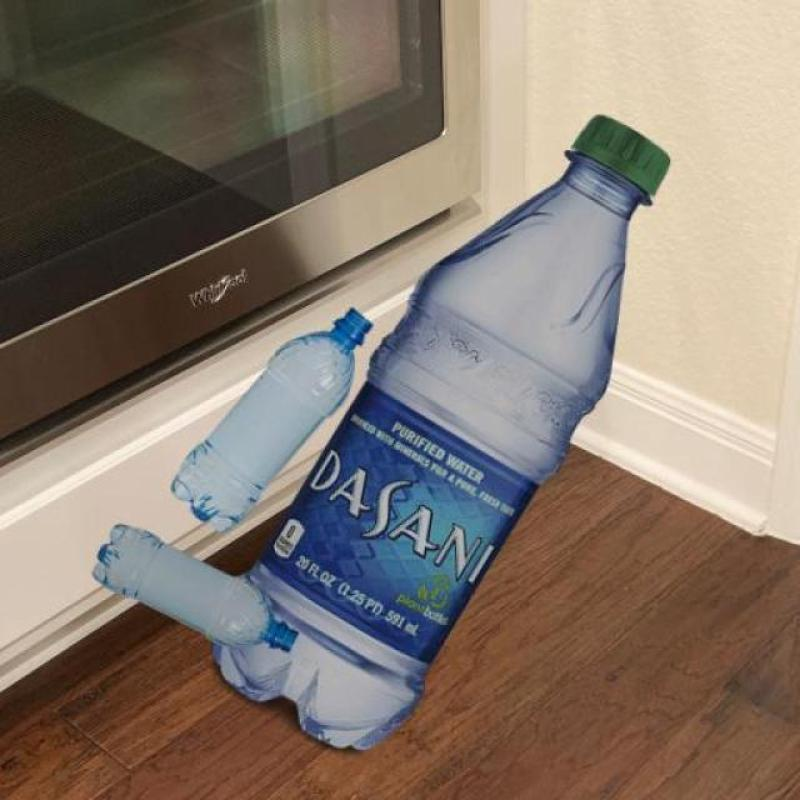botella: (207, 112, 674, 760), (161, 308, 377, 531), (91, 522, 299, 653)
